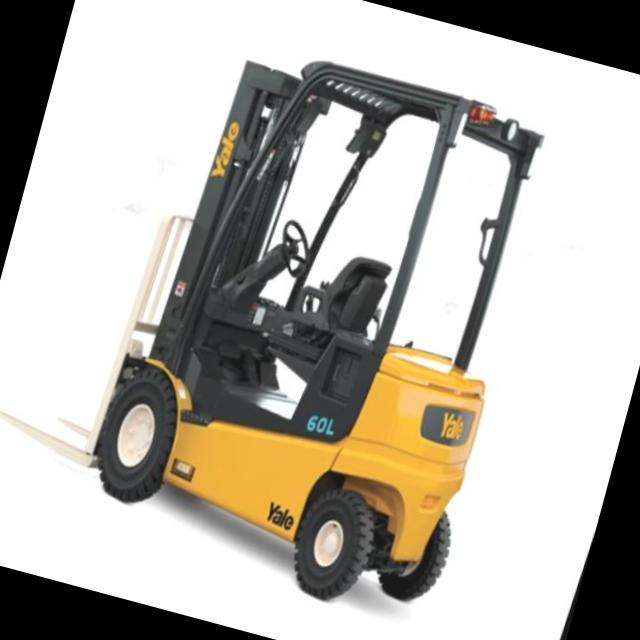forklift: (31, 0, 592, 638)
